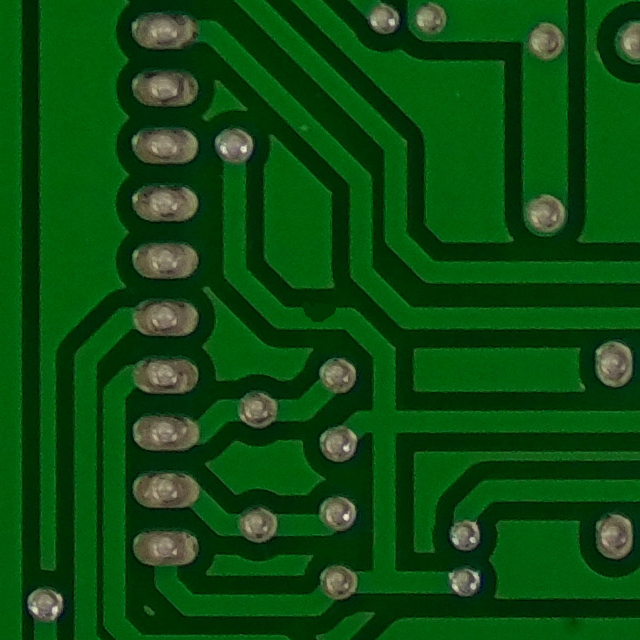mouse_bite: (288, 294, 352, 346)
